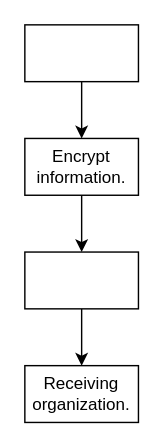
Some shapes in this 163 by 447 pixel diagram are drawn without their labels. Each missing label, with the centre of its shape:
"Local organization." goes at point 80,52.
"Shared intelligence network." goes at point 80,280.
